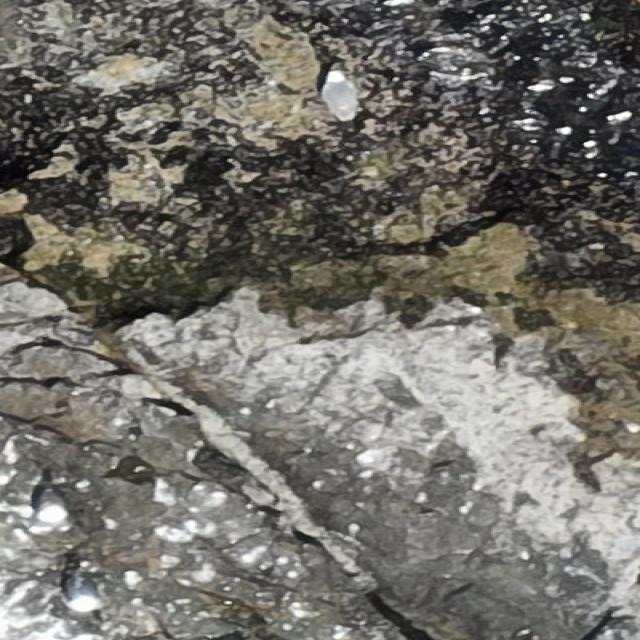umineko: (317, 62, 358, 125), (61, 557, 100, 614), (35, 476, 73, 529)
